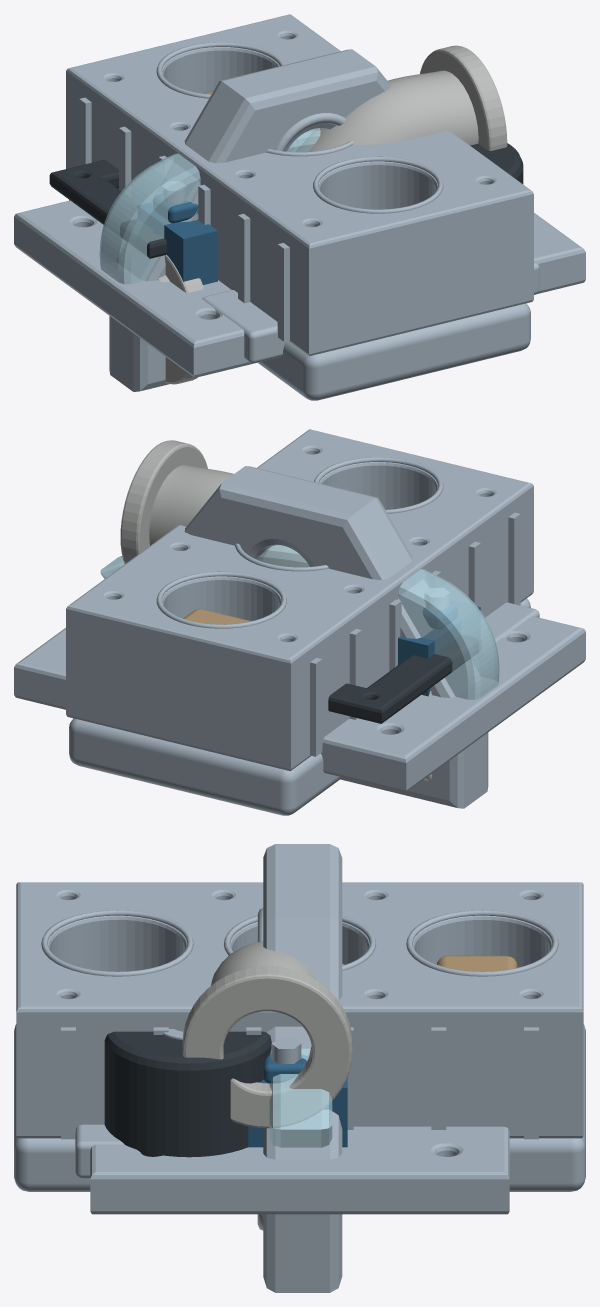
File: manufacturing-parts.glb
3 renders of one model, top to bottom at view 1: azimuth 30°, elevation 25°; view 2: azimuth 150°, elevation 25°; view 3: azimuth 270°, elevation 25°, orthographic. The views are drawn at different scales.
Parts seen in each view (by area): view 1: vmc, jigs, billet, sls, sla, rubber; view 2: vmc, jigs, billet, sla, sls, rubber, fdm; view 3: vmc, jigs, billet, sls, rubber, sla, fdm.
Part boxes in pixels (box(x1,y1,x2,y2)): vmc: box(66, 14, 539, 400); jigs: box(14, 150, 585, 377); billet: box(109, 49, 390, 391); sls: box(158, 45, 507, 384); sla: box(99, 128, 320, 284); rubber: box(49, 143, 523, 258); vmc: box(66, 429, 539, 815); jigs: box(14, 588, 585, 792); billet: box(184, 466, 488, 808); sla: box(100, 545, 499, 699); sls: box(120, 440, 431, 781); rubber: box(328, 634, 478, 723); fdm: box(183, 609, 250, 624); vmc: box(14, 882, 585, 1191); jigs: box(90, 964, 509, 1214); billet: box(257, 844, 342, 1292); sls: box(182, 942, 352, 1128); rubber: box(104, 1029, 271, 1157); sla: box(269, 1048, 332, 1147); fdm: box(436, 955, 517, 971).
Size of the model in its own units: 1.94 by 1.26 by 2.1.
